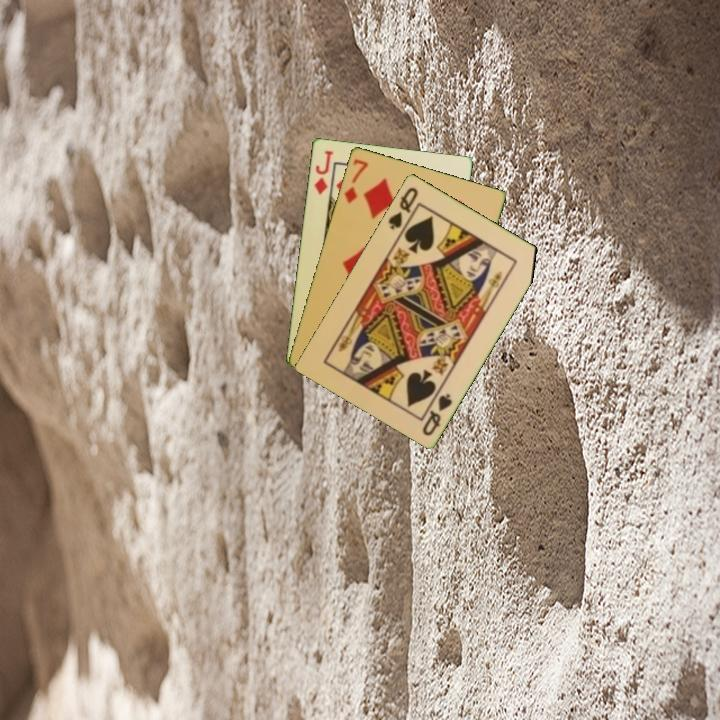7d: (340, 155, 371, 206)
Jd: (310, 147, 336, 197)
Qs: (385, 183, 421, 232), (419, 390, 455, 439)
